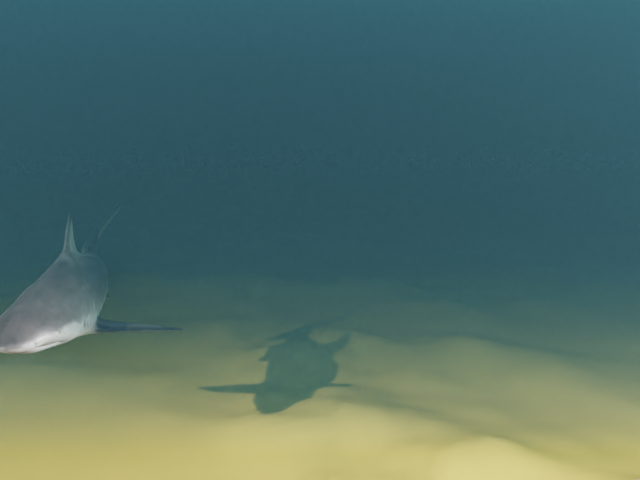Carribean Shark.001: (0, 196, 183, 353)
